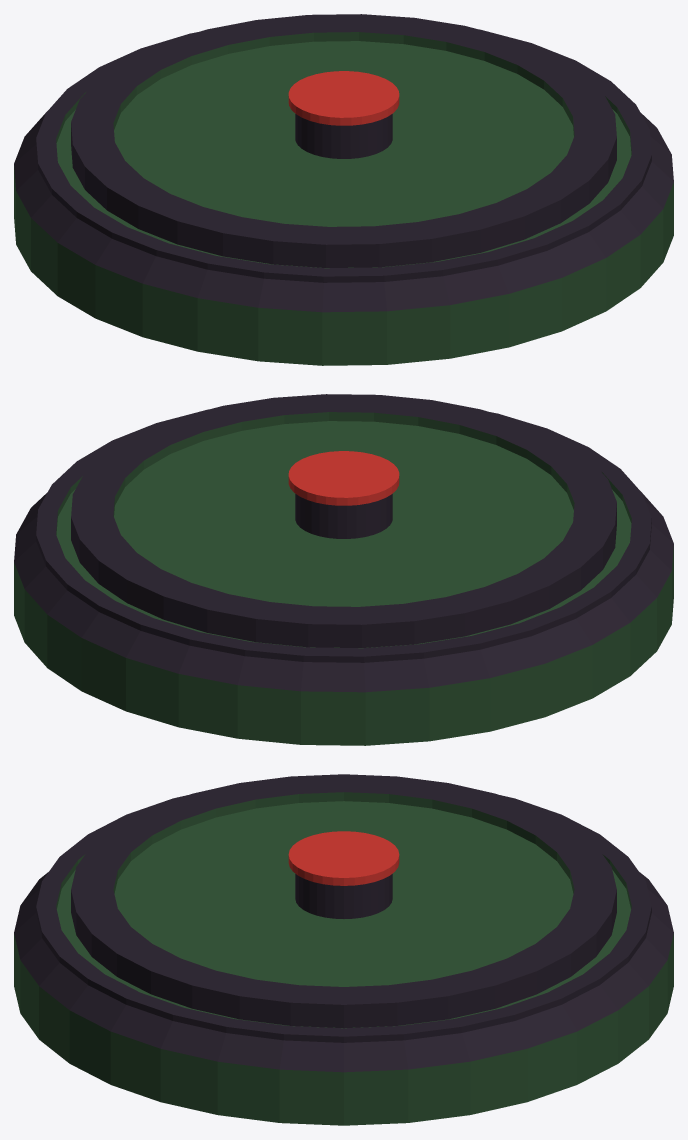
The model's file is Landmine.fbx.
The picture shows the model from 3 angles, top to bottom: view 1: azimuth 30°, elevation 25°; view 2: azimuth 150°, elevation 25°; view 3: azimuth 270°, elevation 25°; orthographic projection.
Visible parts, largest first — view 1: Landmine; view 2: Landmine; view 3: Landmine.
Part boxes in pixels (x1=…): Landmine: x1=14, y1=14, x2=673, y2=365; Landmine: x1=14, y1=394, x2=673, y2=745; Landmine: x1=14, y1=774, x2=673, y2=1125.
Size of the model in its own units: 200 by 44.02 by 200.
